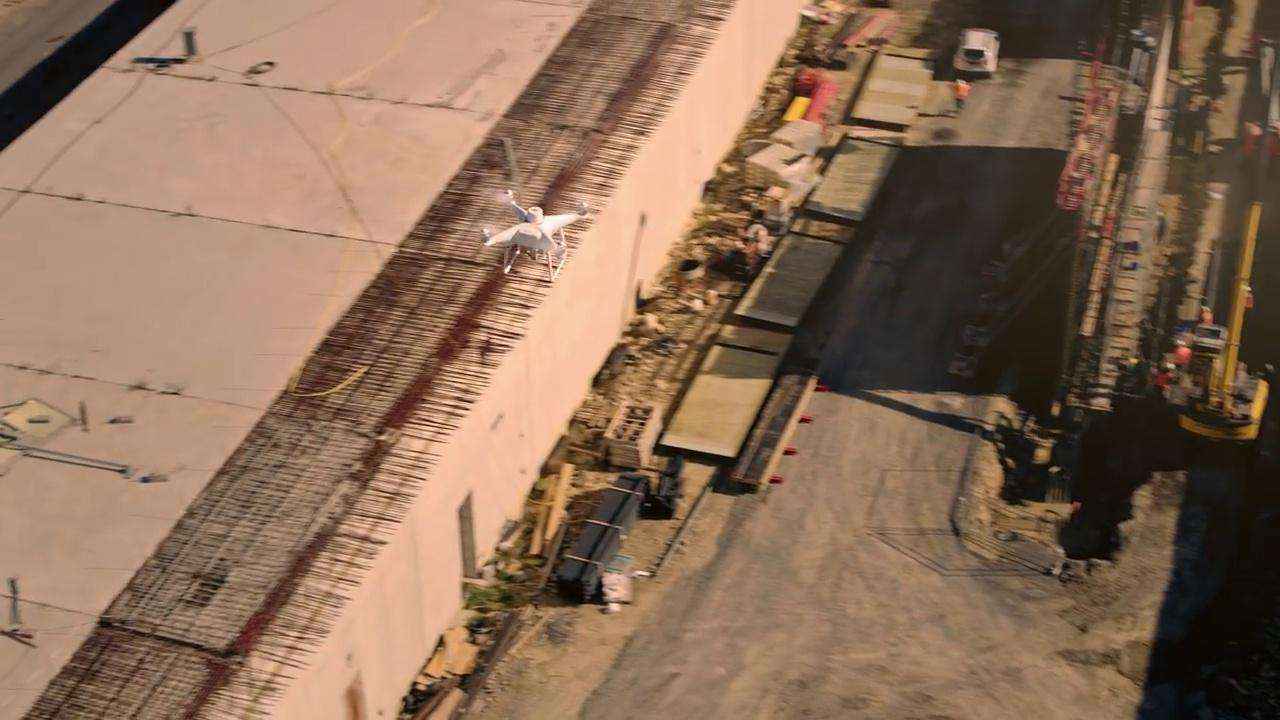drone: (475, 180, 593, 283)
